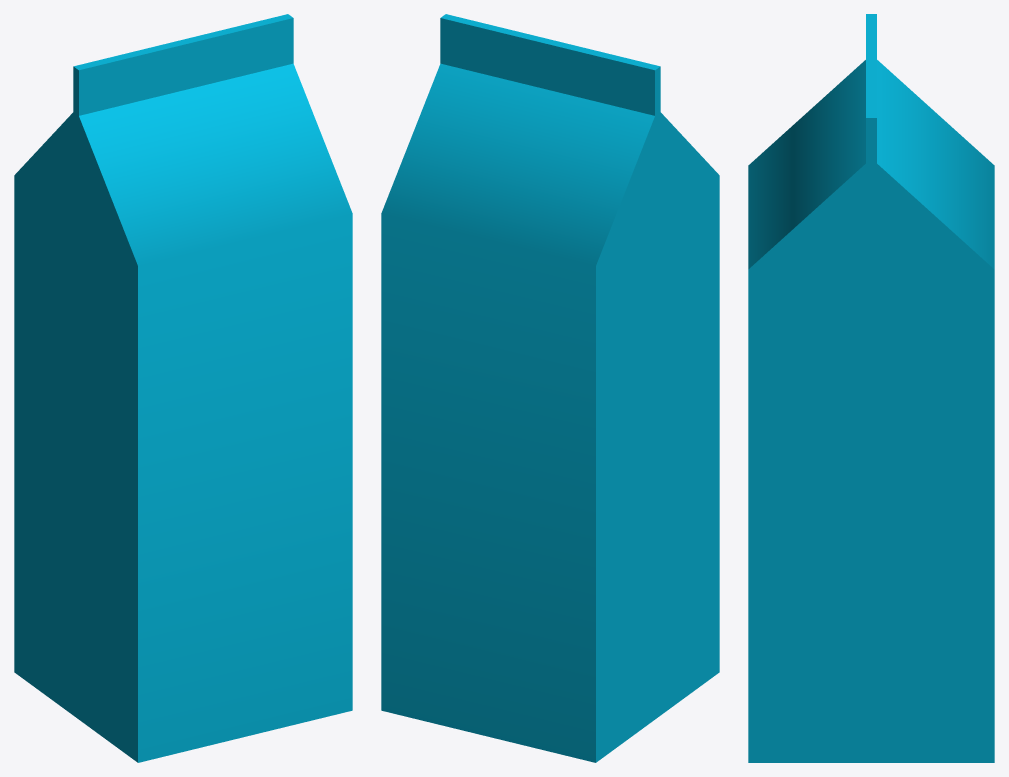
File: Orange_Juice_Lod0.fbx
The picture shows the model from 3 angles, left to right: view 1: azimuth 30°, elevation 25°; view 2: azimuth 150°, elevation 25°; view 3: azimuth 270°, elevation 25°; orthographic projection.
Parts seen in each view (by area): view 1: Orange_Juice_Lod0; view 2: Orange_Juice_Lod0; view 3: Orange_Juice_Lod0.
Boxes of the visible parts, bbox=[...] form: Orange_Juice_Lod0: bbox=[14, 14, 352, 762]; Orange_Juice_Lod0: bbox=[381, 14, 719, 762]; Orange_Juice_Lod0: bbox=[748, 14, 994, 762].
Bounding box in the file's own units: 9.49 × 27.43 × 9.49.
